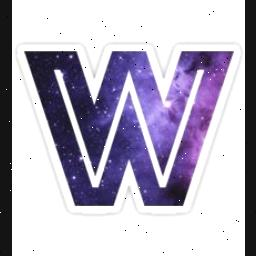w: (13, 32, 245, 212)
